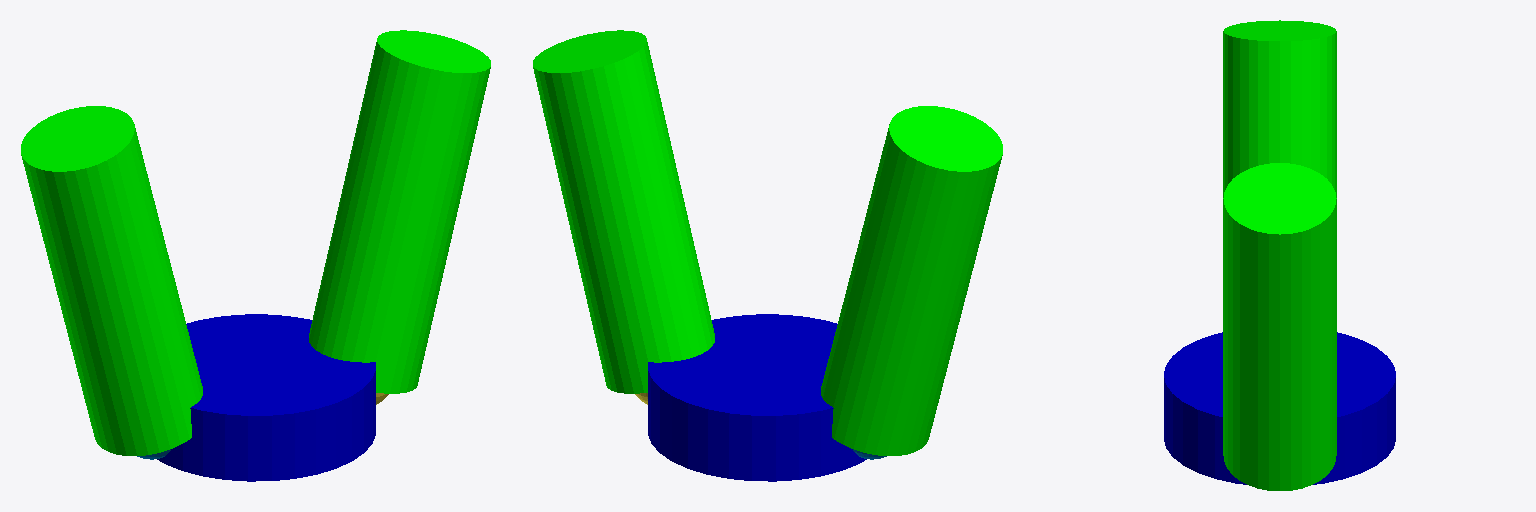
URDF robot description (gripper_2f_1j):
<?xml version='1.0' encoding='UTF-8'?>
<robot name="gripper_2f_1j">
  <link name="palm">
    <inertial>
      <origin xyz="0.0 0.0 0.0" rpy="0.0 -0.0 0.0"/>
      <mass value="1.0"/>
      <inertia ixx="1.0" ixy="0.0" ixz="0.0" iyy="1.0" iyz="0.0" izz="1.0"/>
    </inertial>
    <visual>
      <geometry>
        <cylinder radius="0.05" length="0.03"/>
      </geometry>
      <material name="blue"/>
      <origin xyz="0.0 0.0 0.0" rpy="0.0 -0.0 0.0"/>
    </visual>
    <collision>
      <geometry>
        <cylinder radius="0.05" length="0.03"/>
      </geometry>
      <origin xyz="0.0 0.0 0.0" rpy="0.0 0.0 0.0"/>
    </collision>
  </link>
  <link name="f11">
    <inertial>
      <origin xyz="0.0 0.0 0.0" rpy="0.0 -0.0 0.0"/>
      <mass value="1.0"/>
      <inertia ixx="1.0" ixy="0.0" ixz="0.0" iyy="1.0" iyz="0.0" izz="1.0"/>
    </inertial>
    <visual>
      <geometry>
        <cylinder radius="0.02430445073858117" length="0.14278505462913618"/>
      </geometry>
      <material name="green"/>
      <origin xyz="0.0 0.0 0.07139252731456809" rpy="0.0 -0.0 0.0"/>
    </visual>
    <collision>
      <geometry>
        <cylinder radius="0.02430445073858117" length="0.14278505462913618"/>
      </geometry>
      <origin xyz="0.0 0.0 0.05" rpy="0.0 0.0 0.0"/>
    </collision>
  </link>
  <link name="f21">
    <inertial>
      <origin xyz="0.0 0.0 0.0" rpy="0.0 -0.0 0.0"/>
      <mass value="1.0"/>
      <inertia ixx="1.0" ixy="0.0" ixz="0.0" iyy="1.0" iyz="0.0" izz="1.0"/>
    </inertial>
    <visual>
      <geometry>
        <cylinder radius="0.02430445073858117" length="0.14278505462913618"/>
      </geometry>
      <material name="green"/>
      <origin xyz="0.0 0.0 0.07139252731456809" rpy="0.0 -0.0 0.0"/>
    </visual>
    <collision>
      <geometry>
        <cylinder radius="0.02430445073858117" length="0.14278505462913618"/>
      </geometry>
      <origin xyz="0.0 0.0 0.05" rpy="0.0 0.0 0.0"/>
    </collision>
  </link>
  <link name="f11_base">
    <inertial>
      <origin xyz="0.0 0.0 0.0" rpy="0.0 -0.0 0.0"/>
      <mass value="1.0"/>
      <inertia ixx="1.0" ixy="0.0" ixz="0.0" iyy="1.0" iyz="0.0" izz="1.0"/>
    </inertial>
    <visual>
      <geometry>
        <sphere radius="0.015"/>
      </geometry>
      <origin xyz="0.0 0.0 0.0" rpy="0.0 -0.0 0.0"/>
    </visual>
  </link>
  <link name="f21_base">
    <inertial>
      <origin xyz="0.0 0.0 0.0" rpy="0.0 -0.0 0.0"/>
      <mass value="1.0"/>
      <inertia ixx="1.0" ixy="0.0" ixz="0.0" iyy="1.0" iyz="0.0" izz="1.0"/>
    </inertial>
    <visual>
      <geometry>
        <sphere radius="0.015"/>
      </geometry>
      <origin xyz="0.0 0.0 0.0" rpy="0.0 -0.0 0.0"/>
    </visual>
  </link>
  <joint name="f11_joint" type="revolute">
    <dynamics damping="100.0" friction="1.0"/>
    <limit effort="30.0" velocity="2.0" lower="-0.6" upper="0.25"/>
    <parent link="f11_base"/>
    <child link="f11"/>
    <axis xyz="0. 1. 0."/>
    <origin xyz="0.0 0.0 0.0" rpy="0.0 0.25 0.0"/>
  </joint>
  <joint name="f21_joint" type="revolute">
    <dynamics damping="100.0" friction="1.0"/>
    <limit effort="30.0" velocity="2.0" lower="-0.6" upper="0.25"/>
    <parent link="f21_base"/>
    <child link="f21"/>
    <axis xyz=" 0. -1.  0."/>
    <origin xyz="0.0 0.0 0.0" rpy="0.0 -0.25 0.0"/>
  </joint>
  <joint name="f11_base_joint" type="fixed">
    <parent link="palm"/>
    <child link="f11_base"/>
    <axis xyz="1. 0. 0."/>
    <origin xyz="0.05 0.0 0.0" rpy="0.0 0.0 0.0"/>
  </joint>
  <joint name="f21_base_joint" type="fixed">
    <parent link="palm"/>
    <child link="f21_base"/>
    <axis xyz="1. 0. 0."/>
    <origin xyz="-0.05 -0.0 0.0" rpy="0.0 0.0 0.0"/>
  </joint>
  <material name="blue">
    <color rgba="0.  0.  0.8 1. "/>
  </material>
  <material name="green">
    <color rgba="0. 1. 0. 1."/>
  </material>
</robot>

--- Facts derived from the render (not from the file) ---
The picture shows the robot from 3 angles, left to right: view 1: azimuth 30°, elevation 25°; view 2: azimuth 150°, elevation 25°; view 3: azimuth 270°, elevation 25°; orthographic projection.
Robot: gripper_2f_1j — 5 links, 4 joints (2 revolute, 2 fixed); root link palm; default pose: all joints at 0.
Visible links, largest first — view 1: f11, f21, palm; view 2: f11, f21, palm; view 3: f11, f21, palm.
Boxes of the visible links, left/top/right/bottom form: f11: left=309, top=30, right=490, bottom=393; f21: left=21, top=106, right=202, bottom=455; palm: left=157, top=314, right=375, bottom=481; f11: left=533, top=30, right=714, bottom=393; f21: left=821, top=106, right=1002, bottom=455; palm: left=648, top=314, right=866, bottom=481; f11: left=1223, top=163, right=1336, bottom=490; f21: left=1223, top=20, right=1336, bottom=197; palm: left=1164, top=332, right=1395, bottom=484.
Bounding box of the posed robot: 0.2177 × 0.1 × 0.1594 m (x, y, z).
Geometry: primitives only (box / cylinder / sphere), no mesh files.